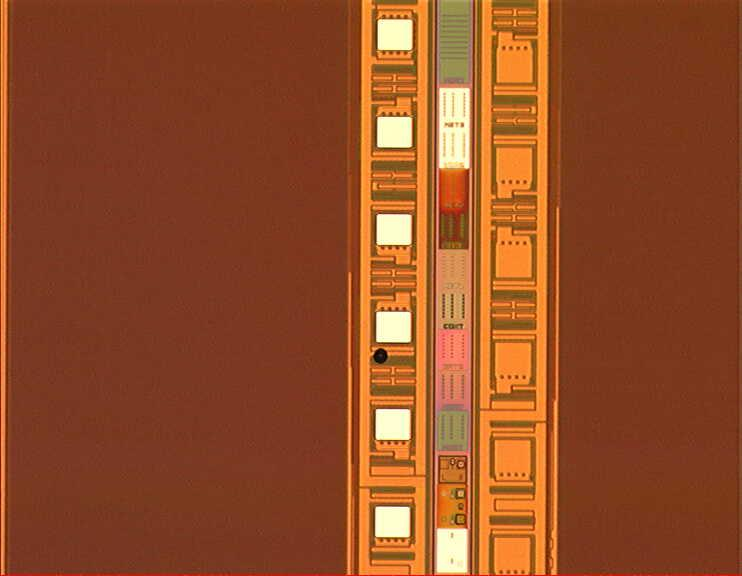PIQ PARTICLE: (372, 347, 392, 367)
